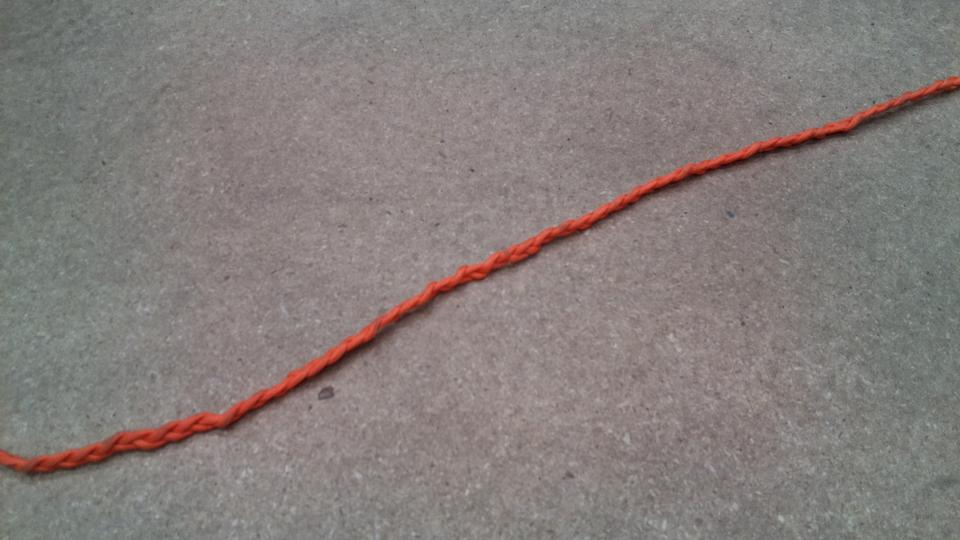rope: (3, 74, 960, 477)
